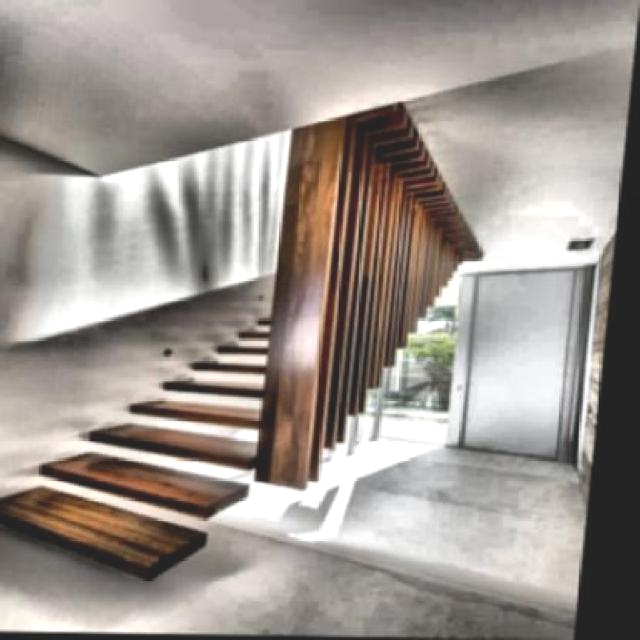stair: (1, 300, 310, 574)
